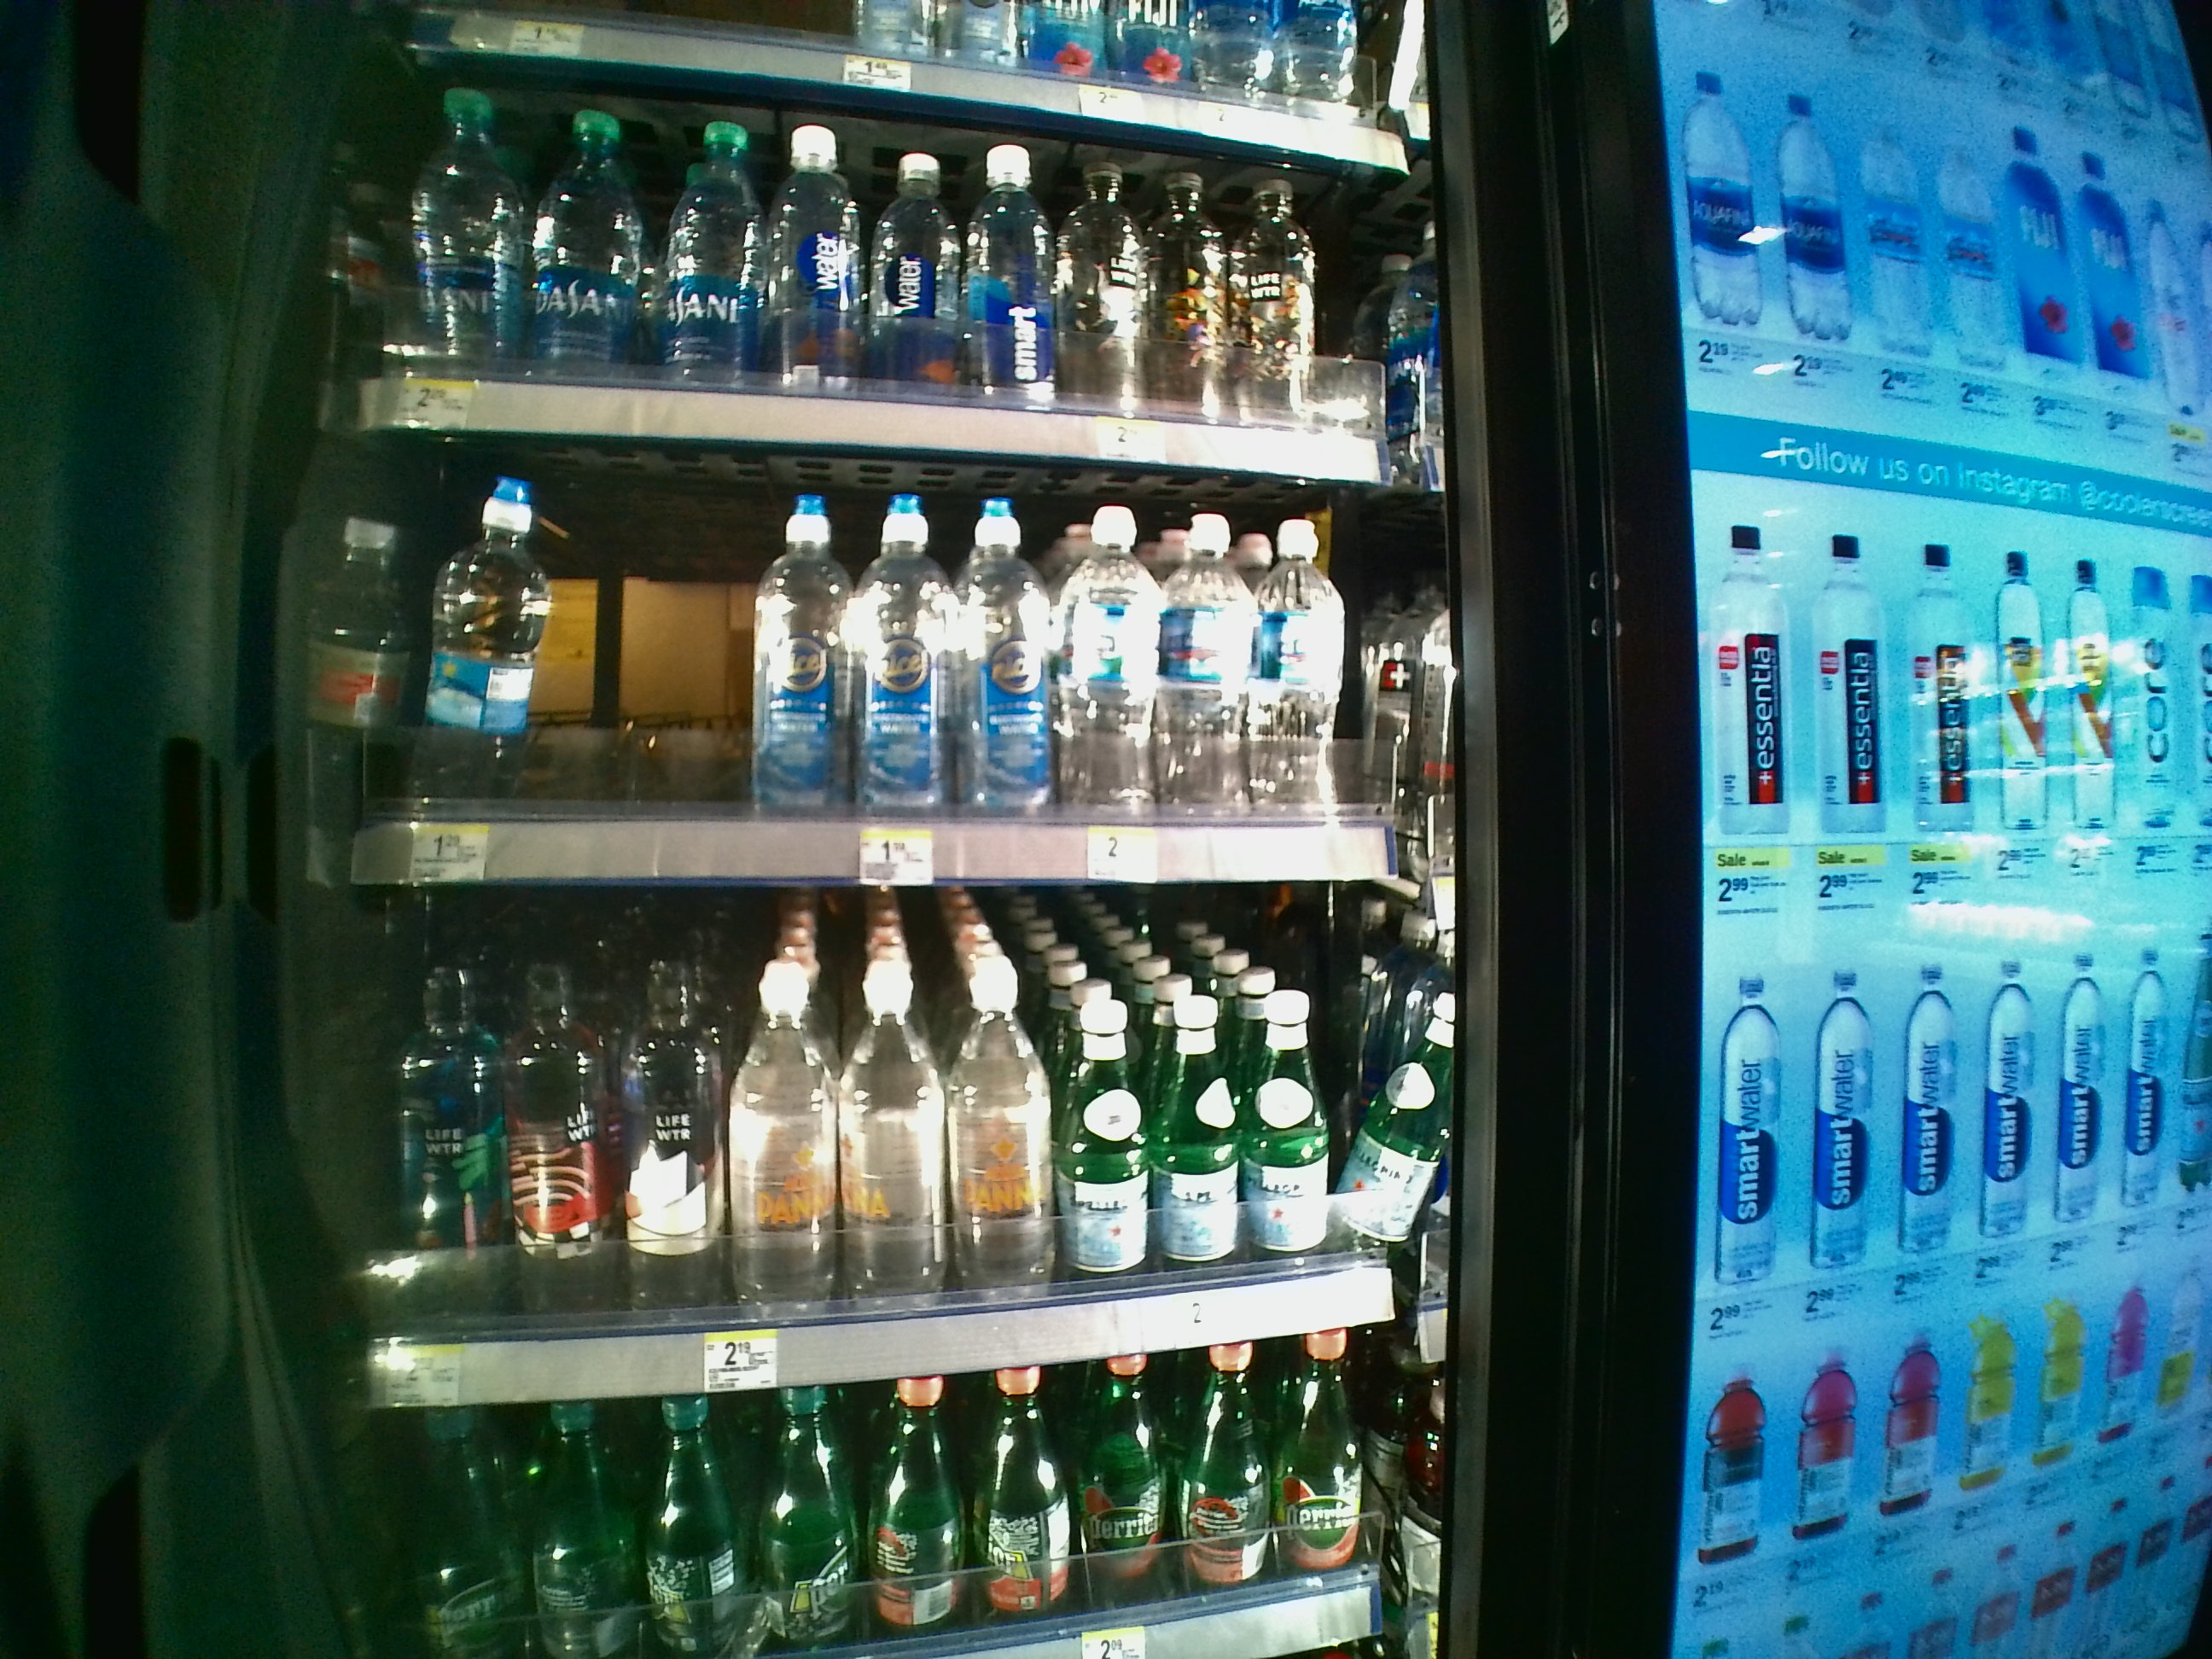shelf: (326, 887, 1463, 1417), (324, 430, 1453, 887)
